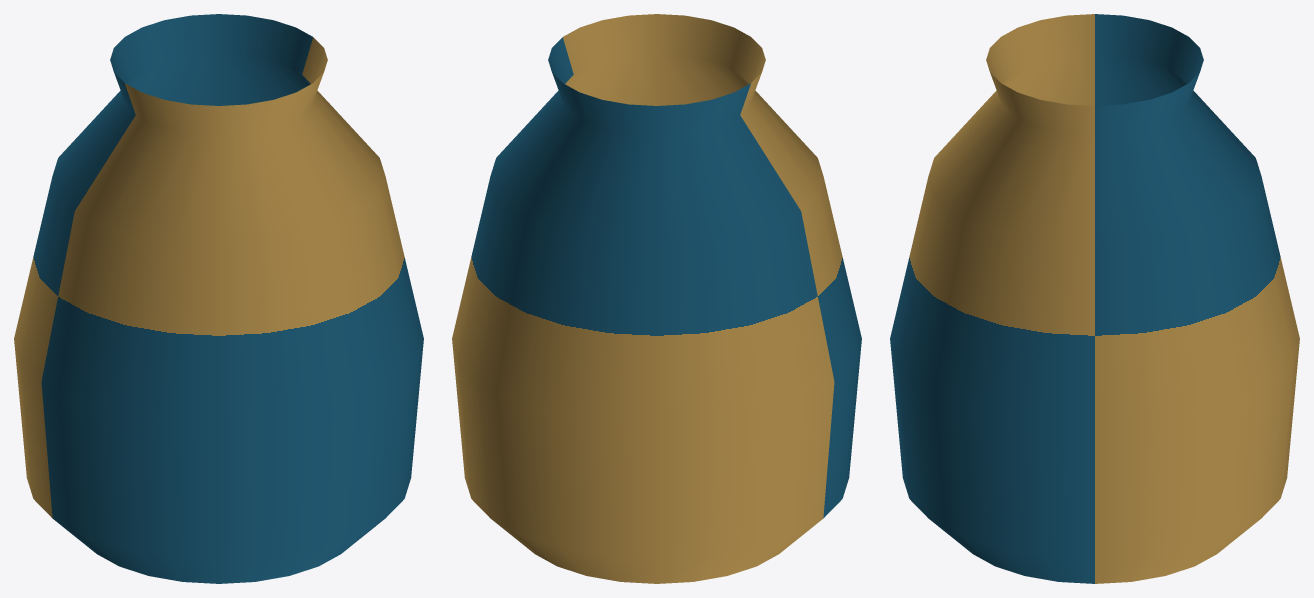
Rendered from textured-vase.glb.
3 renders of one model, left to right at view 1: azimuth 30°, elevation 25°; view 2: azimuth 150°, elevation 25°; view 3: azimuth 270°, elevation 25°, orthographic.
Size of the model in its own units: 0.32 by 0.4 by 0.32.
Materials: 1 (1 with a texture image).
